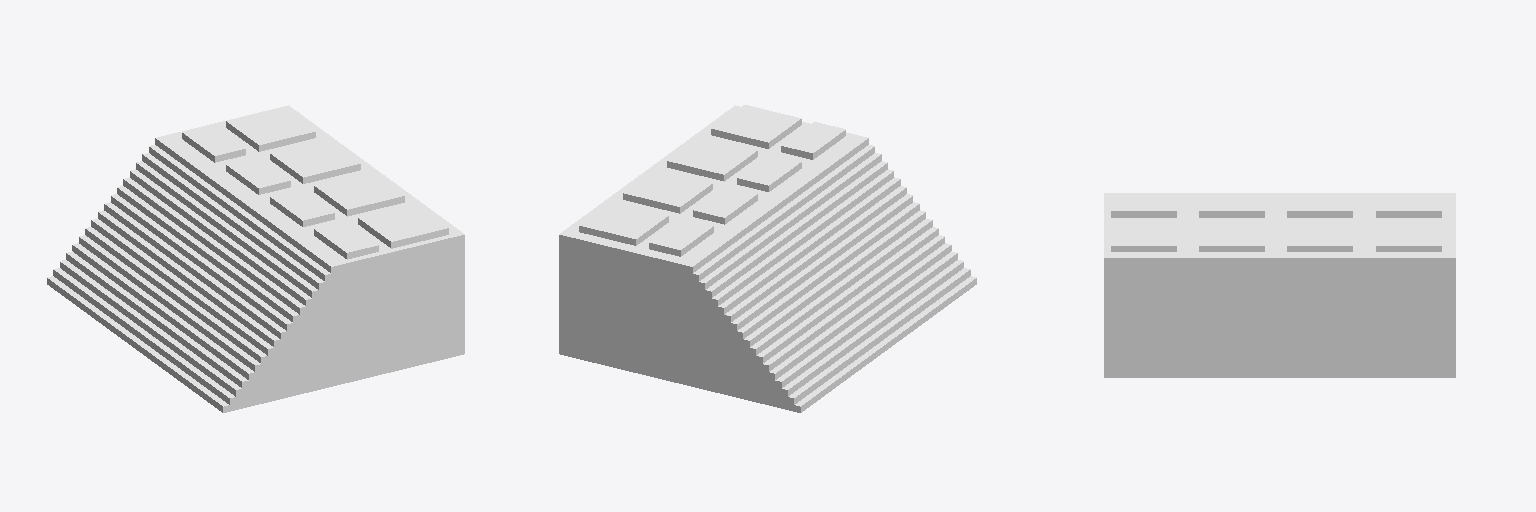
Rendered from mart-10.obj.
The picture shows the model from 3 angles: view 1: azimuth 30°, elevation 25°; view 2: azimuth 150°, elevation 25°; view 3: azimuth 270°, elevation 25°; orthographic projection.
Parts seen in each view (by area): view 1: object 1; view 2: object 1; view 3: object 1.
Boxes of the visible parts, <box> form: object 1: <box>47,105,464,412</box>; object 1: <box>559,105,976,412</box>; object 1: <box>1104,193,1455,377</box>.
Bounding box in the file's own units: 3.8 × 1.9 × 4.8.